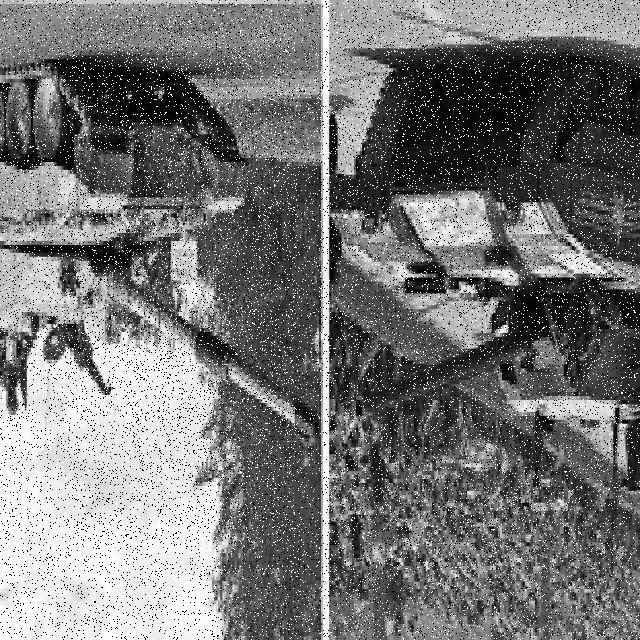MIL_MBT: (343, 33, 637, 588), (72, 14, 295, 547)
